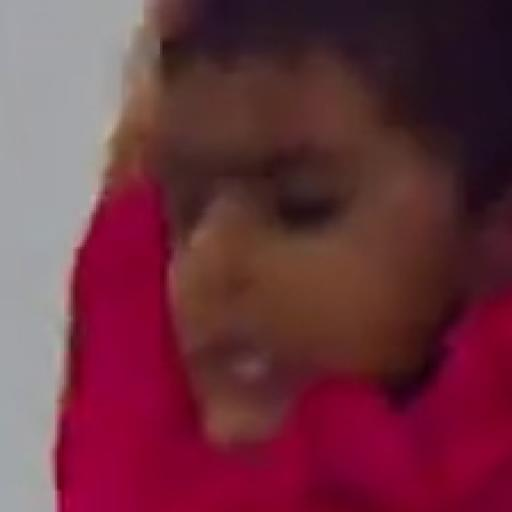Autism: (140, 21, 512, 479)
